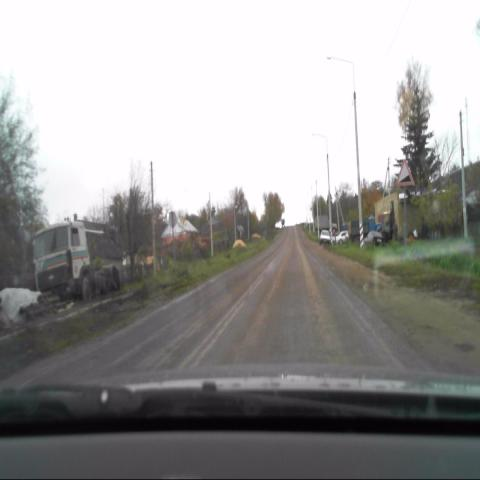1_14: (397, 161, 415, 190)
